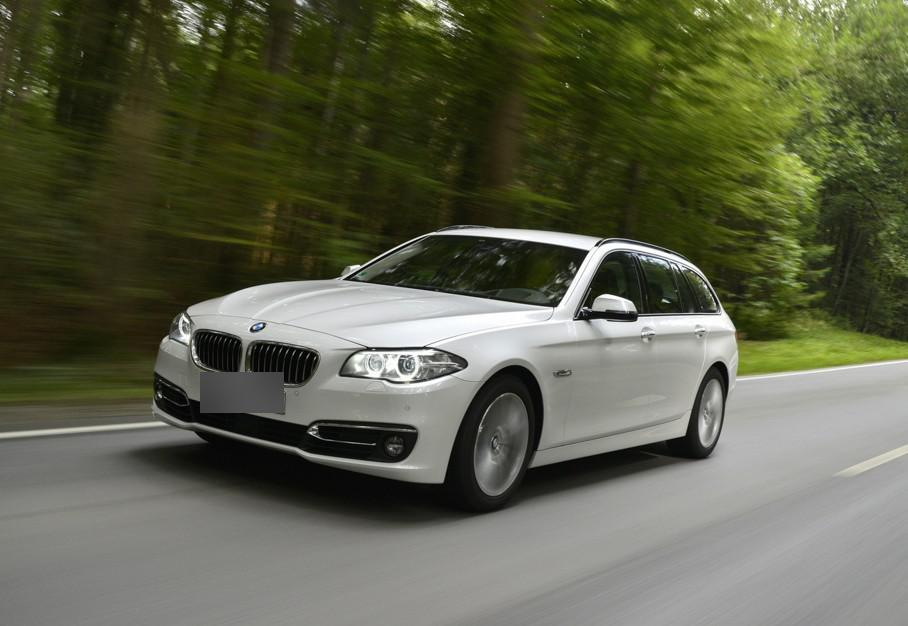Wagon: (152, 222, 739, 514)
